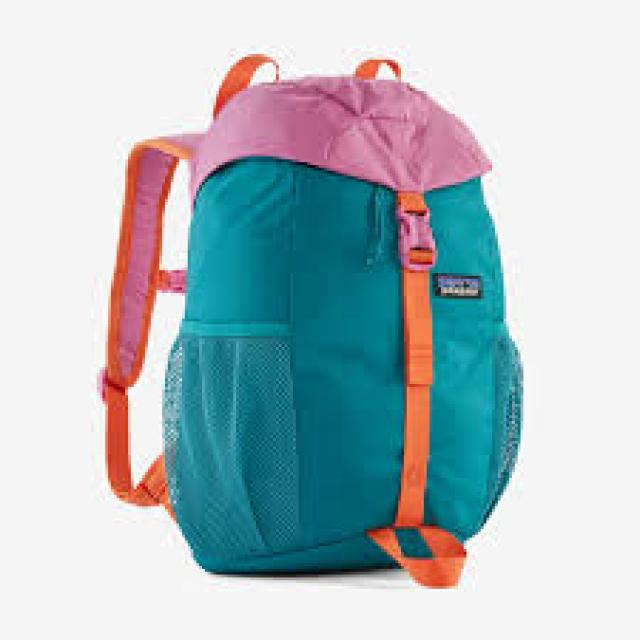backpack: (97, 51, 523, 586)
